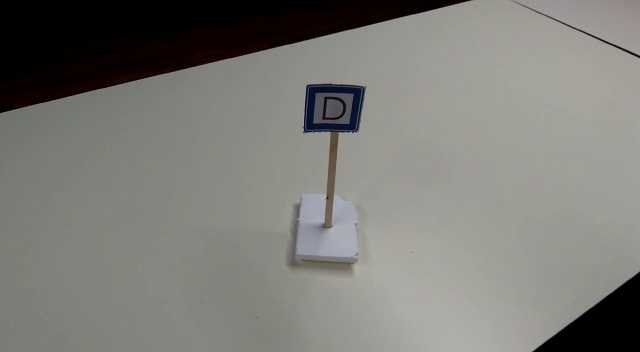durak: (302, 84, 365, 133)
